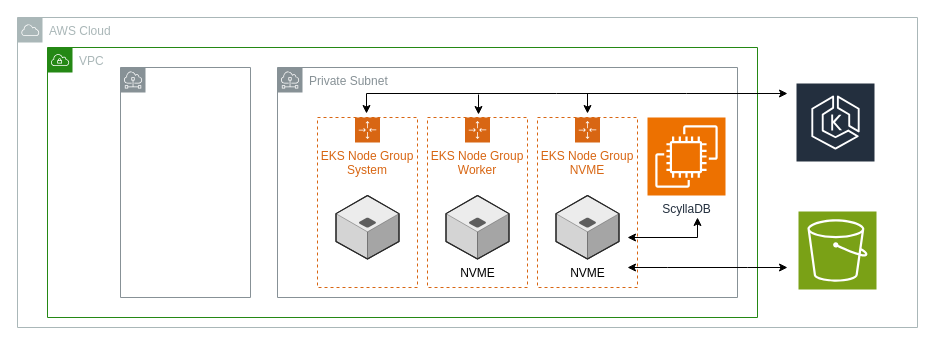
Image size: 935x345. Some labels were removed from this diagram. The centre of each missing label's shape, as x and y in pixels:
"Amazon EKS Control Plane" belongs at pixel 835 137.
"Public Subnet" belongs at pixel 185 182.
"System Node" belongs at pixel 367 226.
"Unreal Cloud DDC Bucket" belongs at pixel 837 250.
